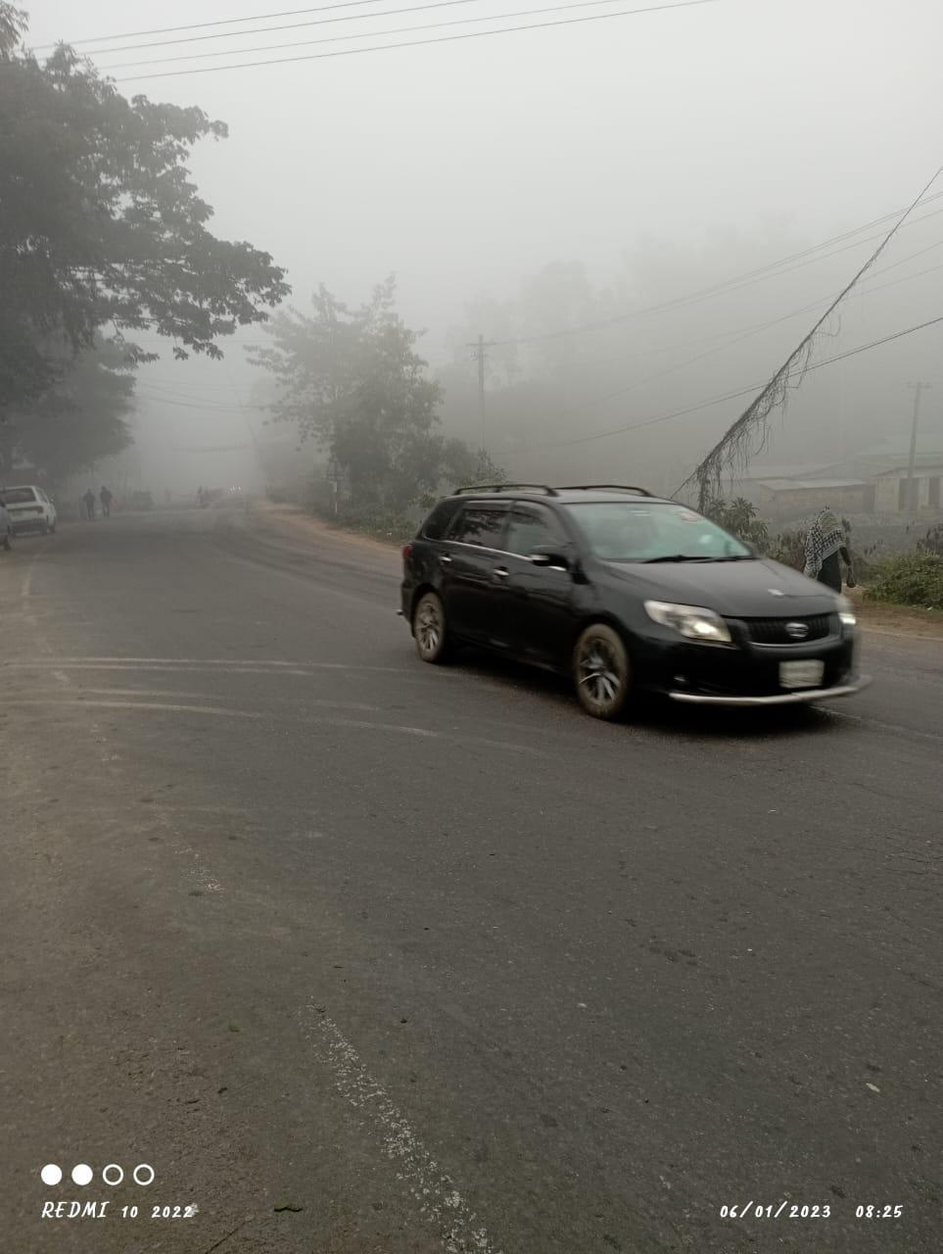Car: (392, 467, 874, 741), (1, 475, 68, 541)
